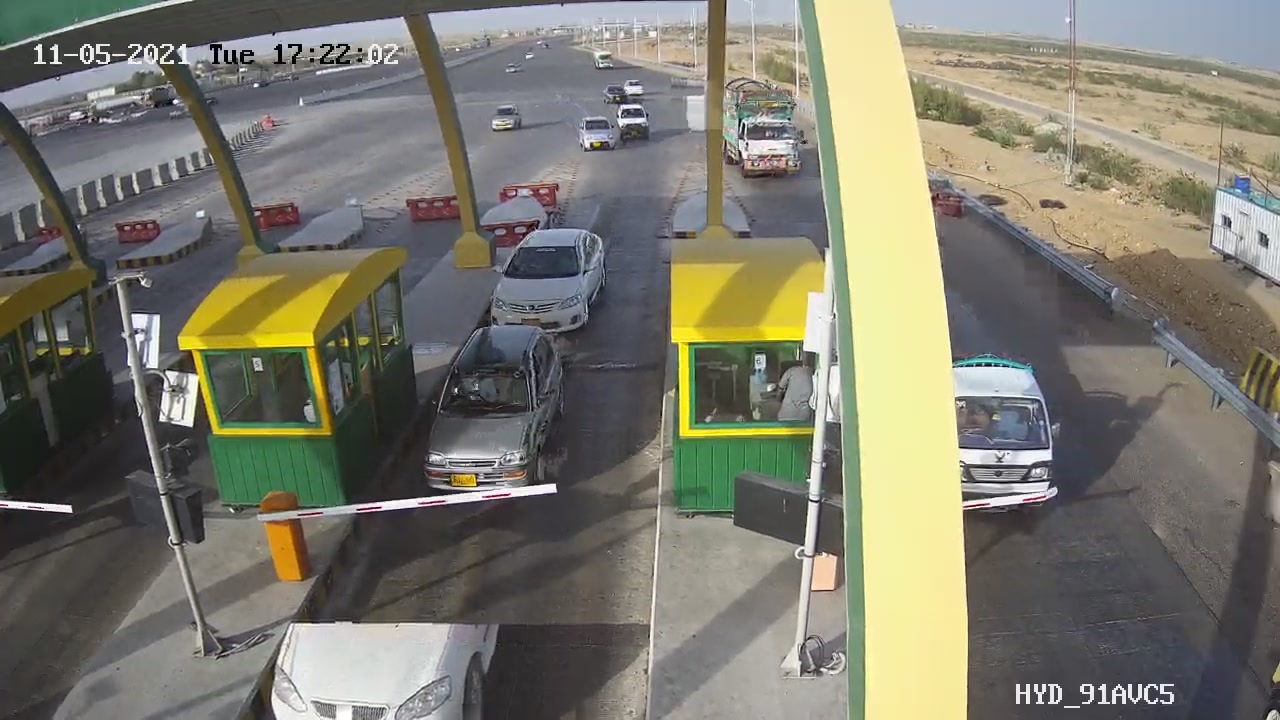F1: (411, 312, 589, 516), (478, 214, 622, 349)
